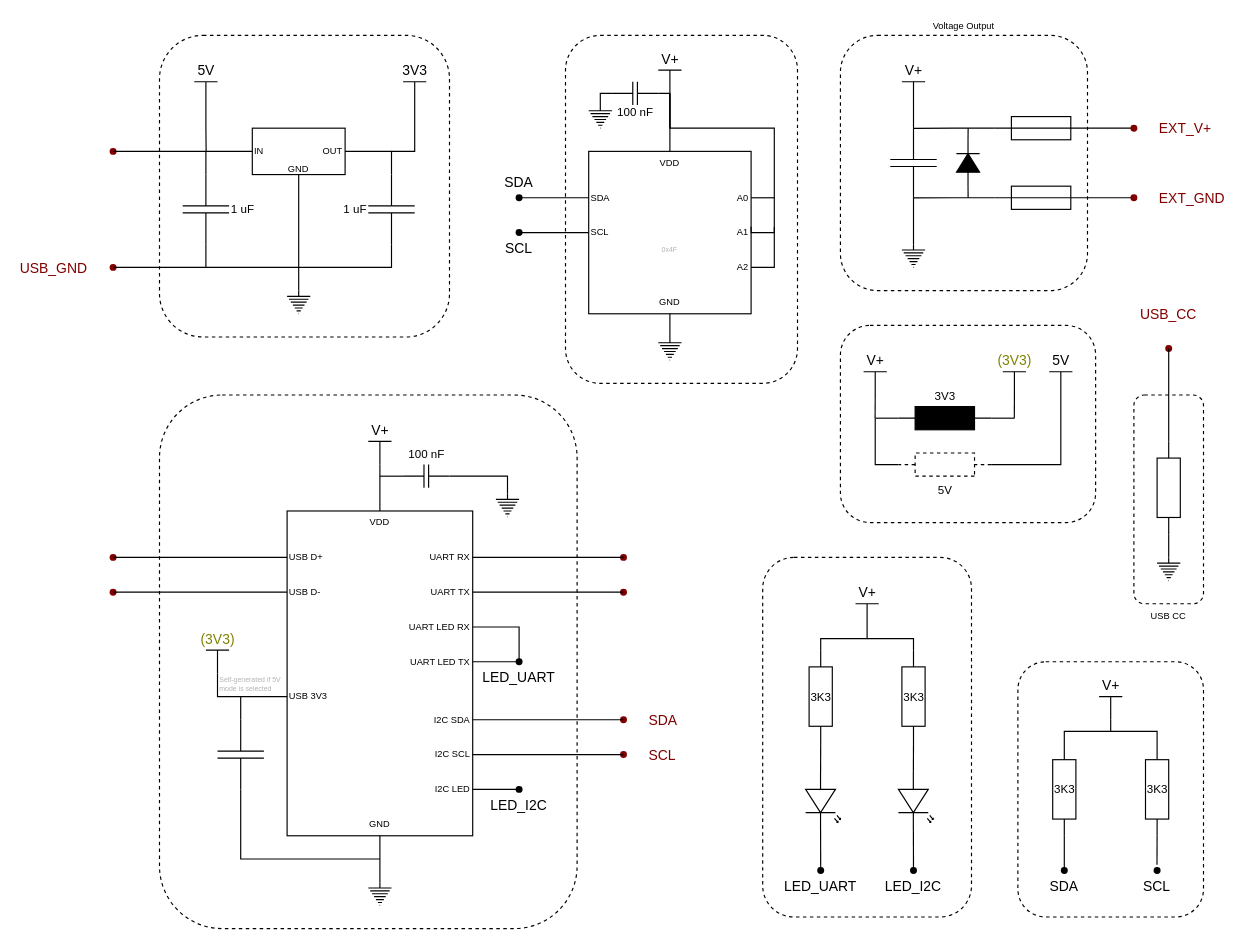
Some shapes in this 1246 by 949 pixel diagram are drawn without their labels. Each missing label, with the box of its shape:
10 uF: (889, 127, 937, 198)
1A 40V: (955, 139, 980, 186)
470 nF: (216, 719, 264, 789)
5K1: (1156, 440, 1180, 534)
AT30TS74: (588, 150, 751, 314)
Jumpers: (839, 324, 1096, 523)
LEDs: (762, 556, 971, 917)
MCP2221: (286, 510, 473, 836)
Pull-ups: (1017, 661, 1204, 917)
RXD: (599, 533, 647, 581)
Temperature Sensor (optional): (564, 34, 798, 383)
Transceiver: (158, 394, 577, 929)
TXD: (599, 568, 647, 615)
USB_D+: (89, 533, 136, 581)
USB_D-: (89, 568, 136, 615)
USB_V+: (89, 127, 136, 175)
Voltage Input: (158, 34, 449, 337)
